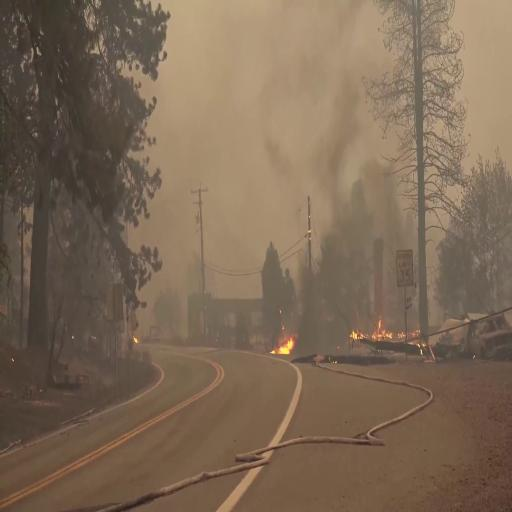smoke: (256, 0, 350, 205), (179, 0, 266, 177)
